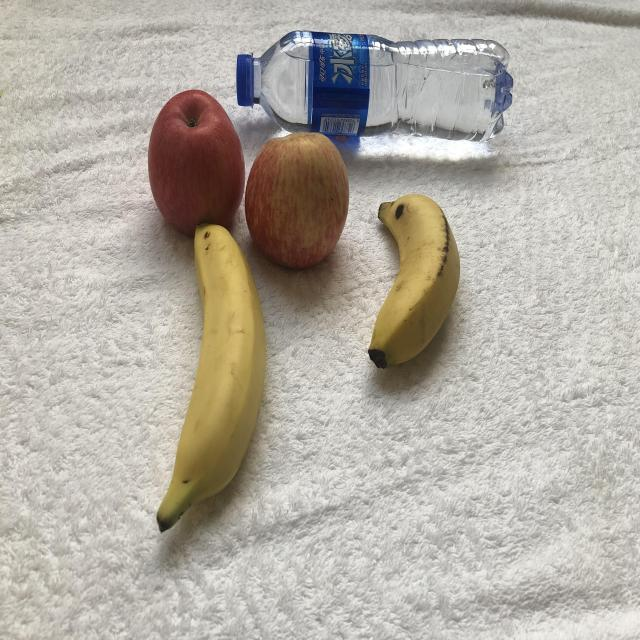Apple: (244, 116, 358, 280), (144, 80, 248, 247)
Banana: (148, 218, 273, 538), (366, 183, 463, 376)
